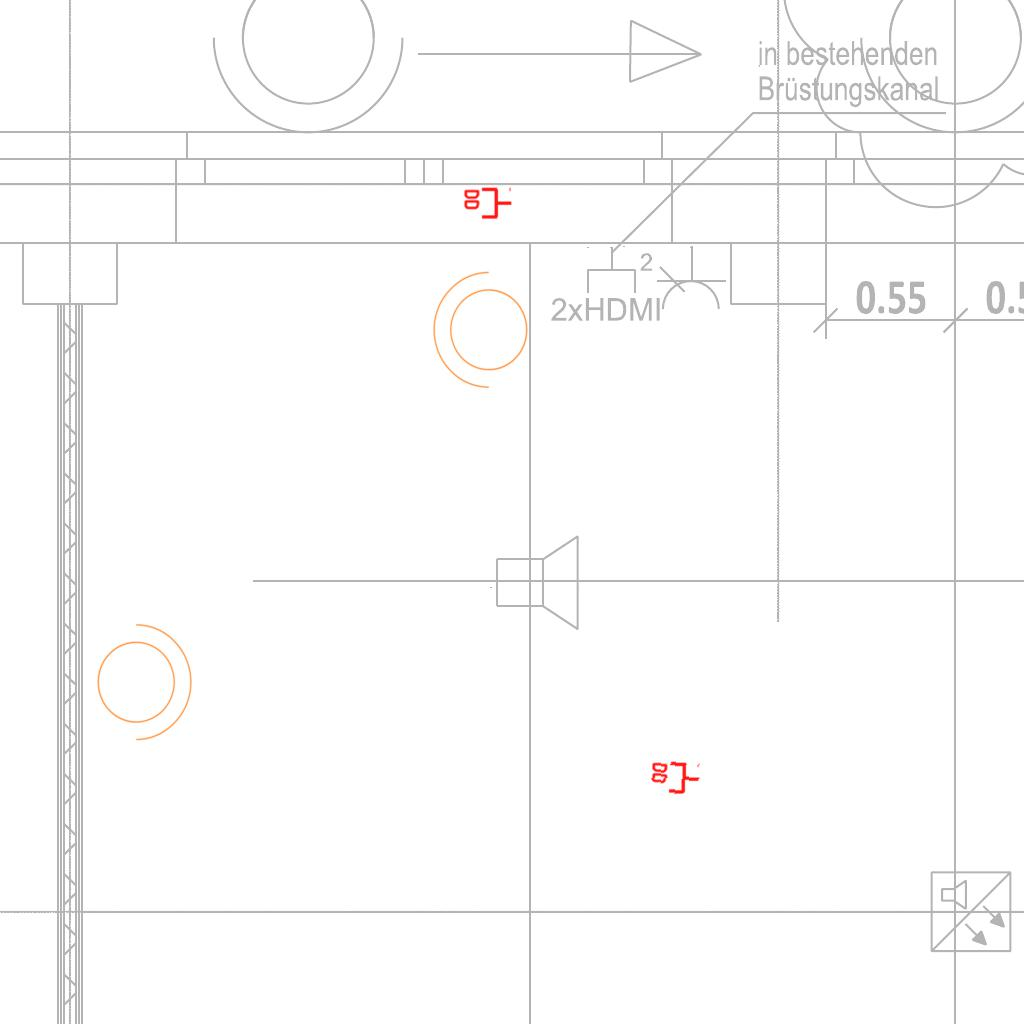Datenanschluss_zweifach: (648, 759, 702, 798), (462, 187, 513, 221)
Scheinwerfer_fuer_Alarmbeleuchtung: (428, 267, 540, 399), (85, 613, 197, 745)
